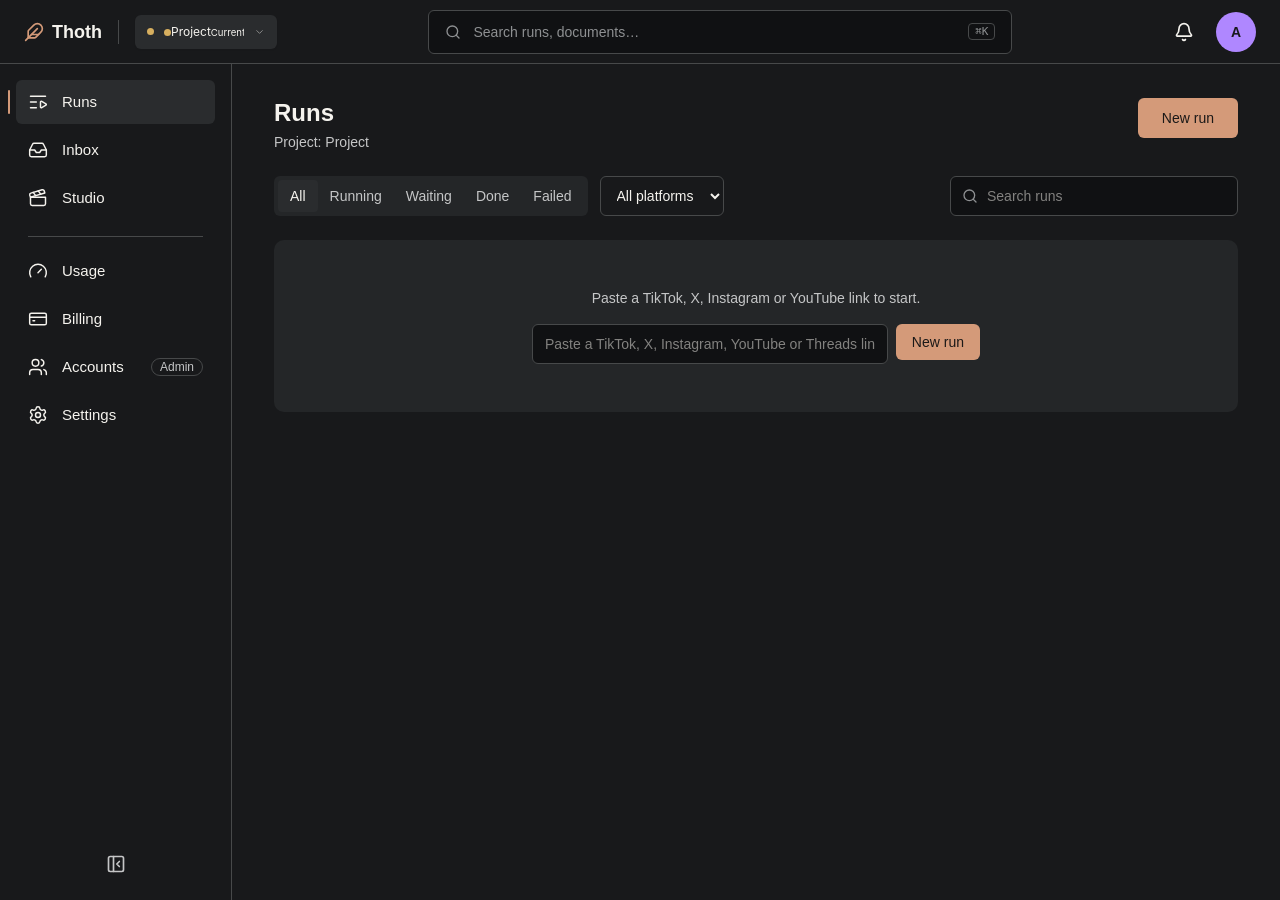
Scenario: workspace navigation identifies the active page and Creator Studio lists the project's drafts
Click the link "Studio" at (66, 198), box left=28, top=188, right=104, bottom=208
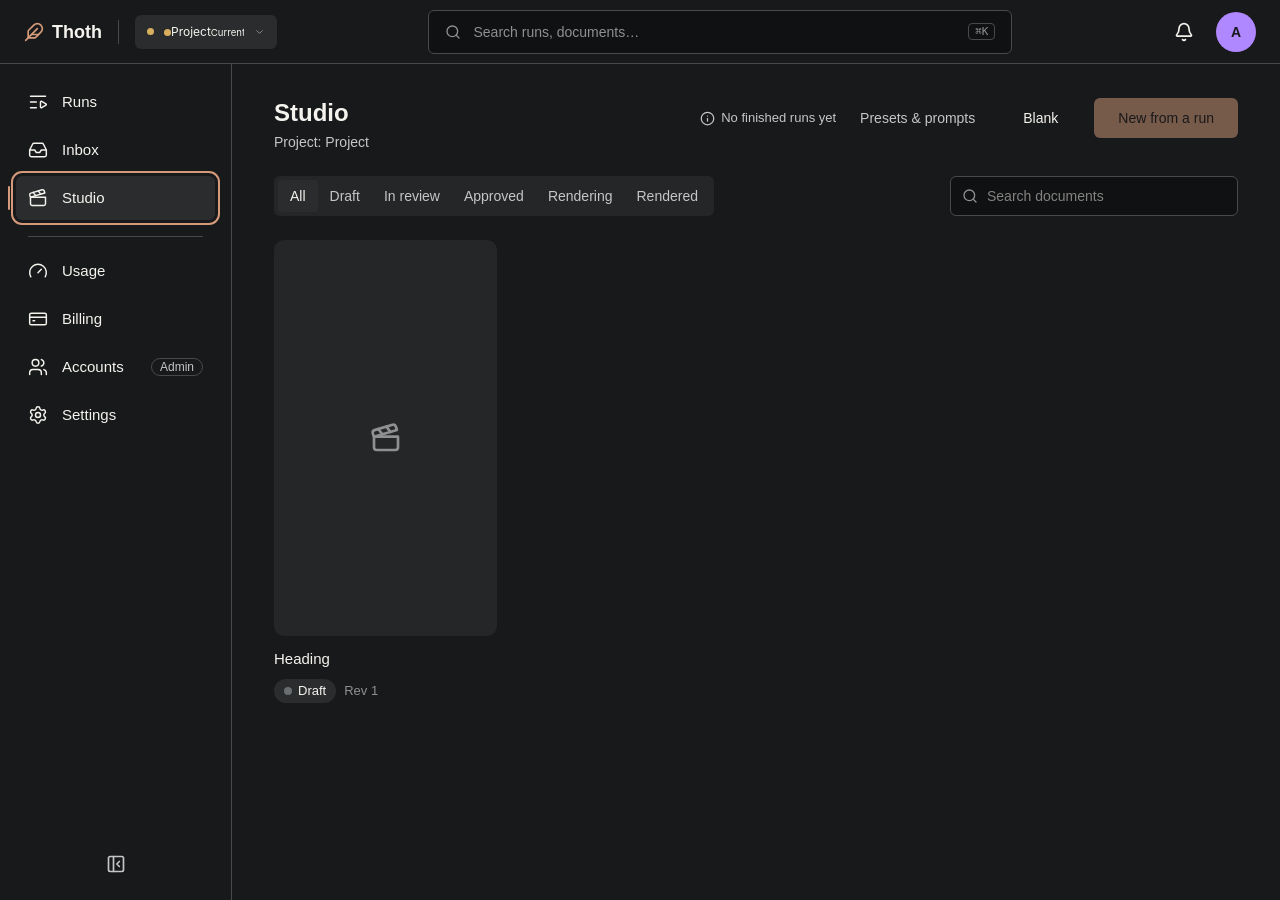
Expected: the link "Heading Draft Rev 1" is shown, left=274, top=240, right=497, bottom=703
